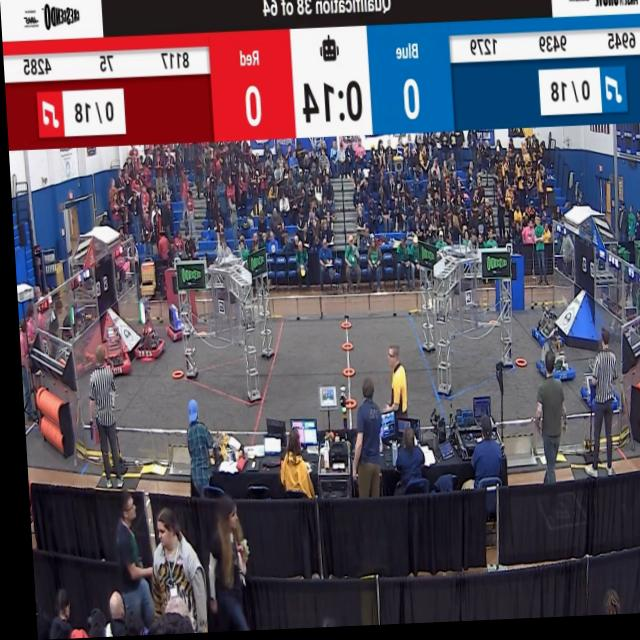Robot: (570, 355, 620, 434), (91, 305, 126, 384), (128, 291, 162, 371), (522, 297, 563, 359), (530, 333, 569, 391), (161, 294, 192, 346)
